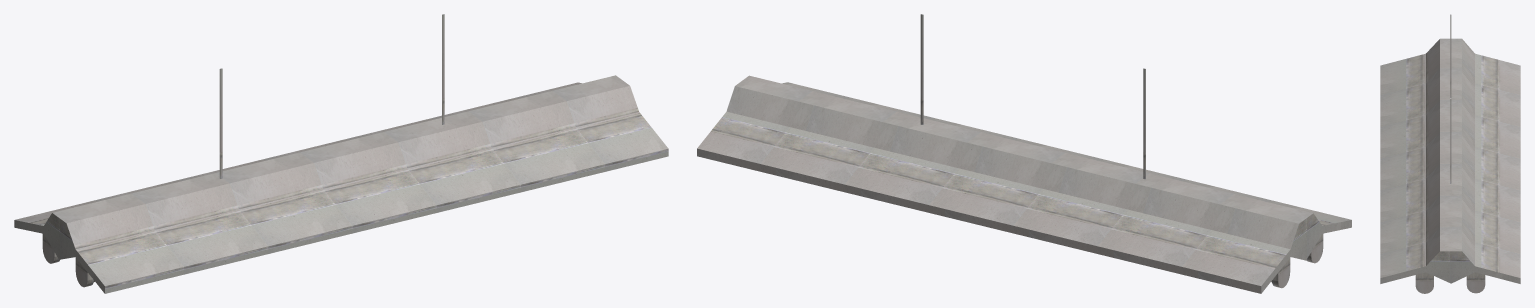
The model's file is off_fluorescentLight.fbx.
3 renders of one model, left to right at view 1: azimuth 30°, elevation 25°; view 2: azimuth 150°, elevation 25°; view 3: azimuth 270°, elevation 25°, orthographic. The views are drawn at different scales.
Visible parts, largest first — view 1: cover, hangs, caps; view 2: cover, hangs, caps; view 3: cover, caps, hangs.
Part boxes in pixels (x1,y1,x2,y2): cover: (14, 75, 668, 293); hangs: (219, 14, 444, 178); caps: (42, 233, 94, 287); cover: (697, 75, 1351, 293); hangs: (920, 14, 1145, 179); caps: (1271, 233, 1323, 288); cover: (1380, 38, 1520, 283); caps: (1415, 272, 1485, 293); hangs: (1450, 14, 1451, 183).
Bounding box in the file's own units: 15.22 × 4.34 × 4.23.
